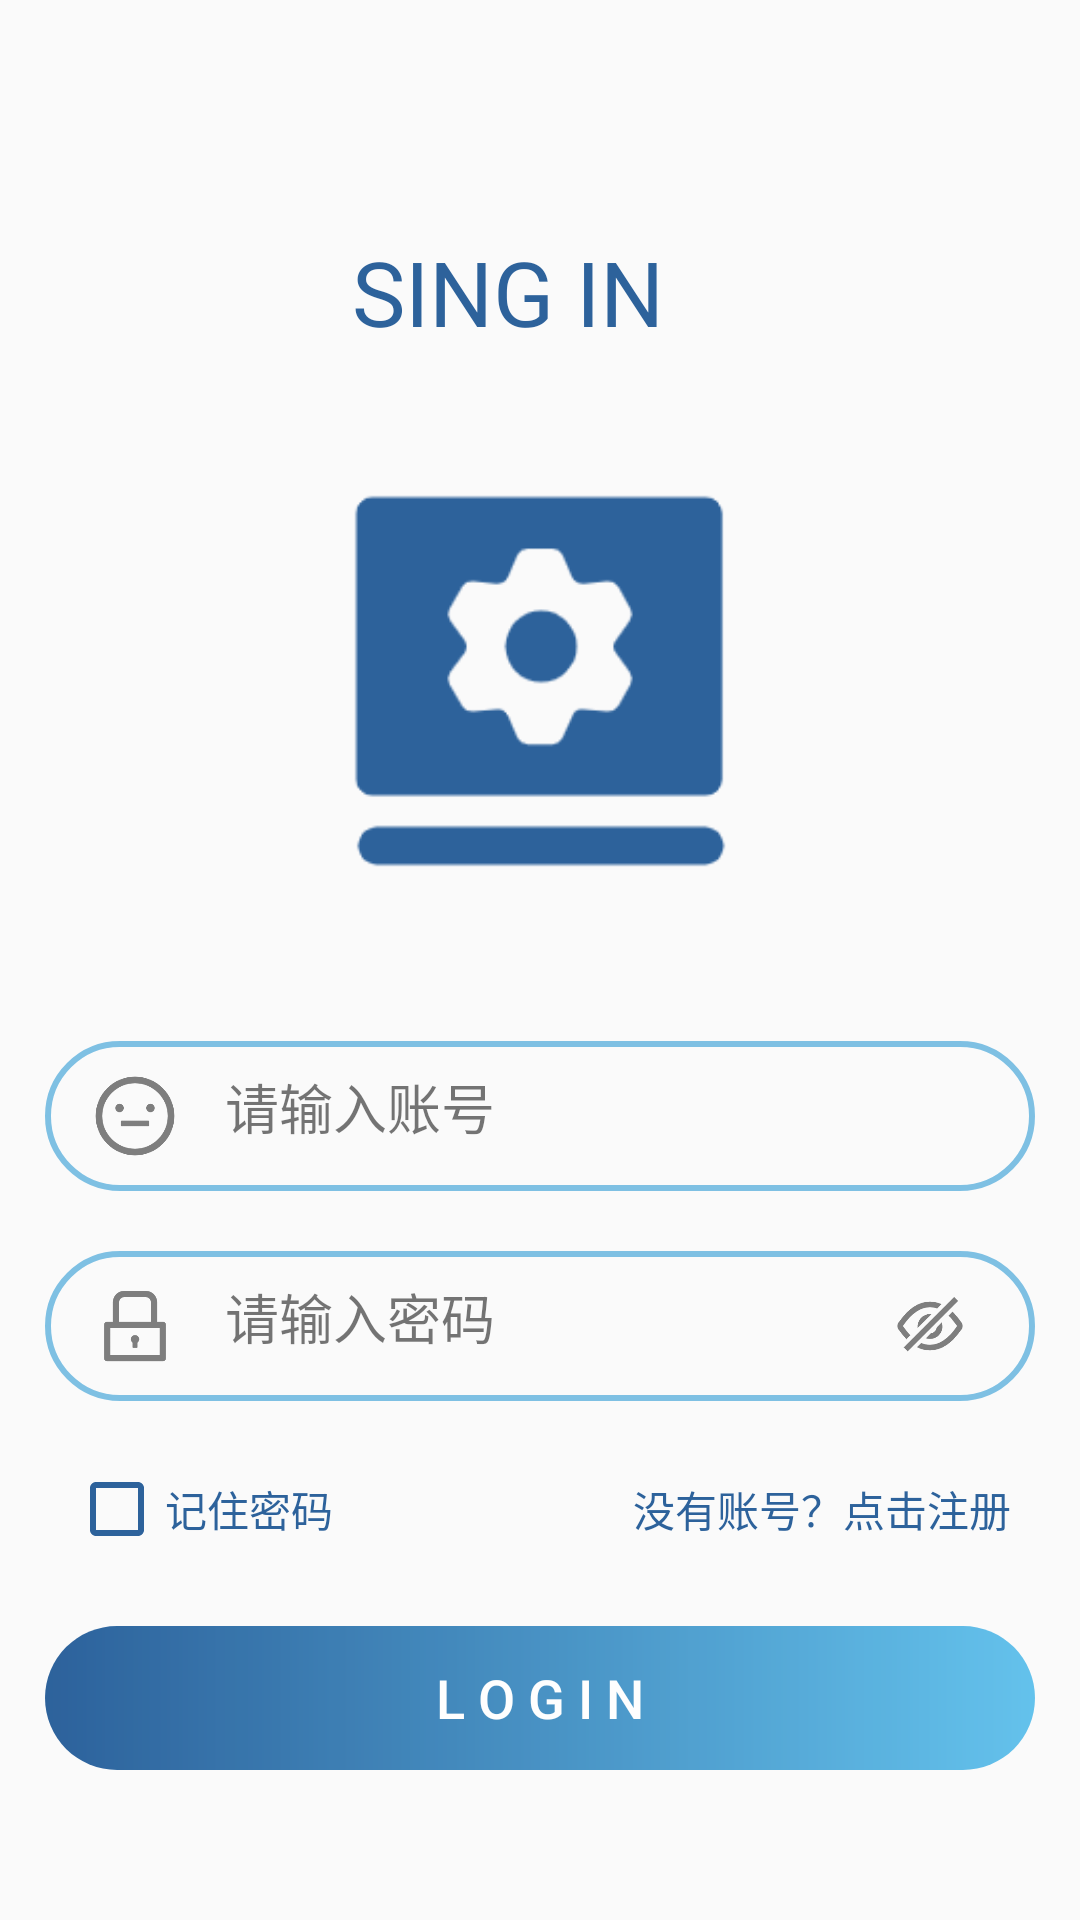

Screen size 1080px×1920px. Icon name, then its box in pixels as (x1, y1, x2, y2):
lock: (104, 1291, 166, 1361)
not visible: (897, 1297, 963, 1351)
